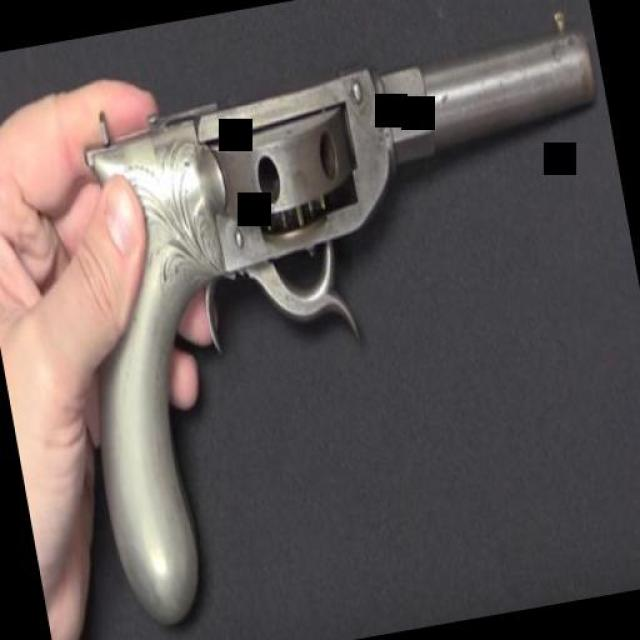gun: (27, 0, 640, 617)
